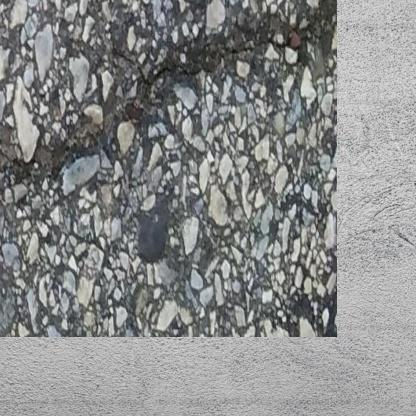Cracks: (0, 0, 311, 176)
